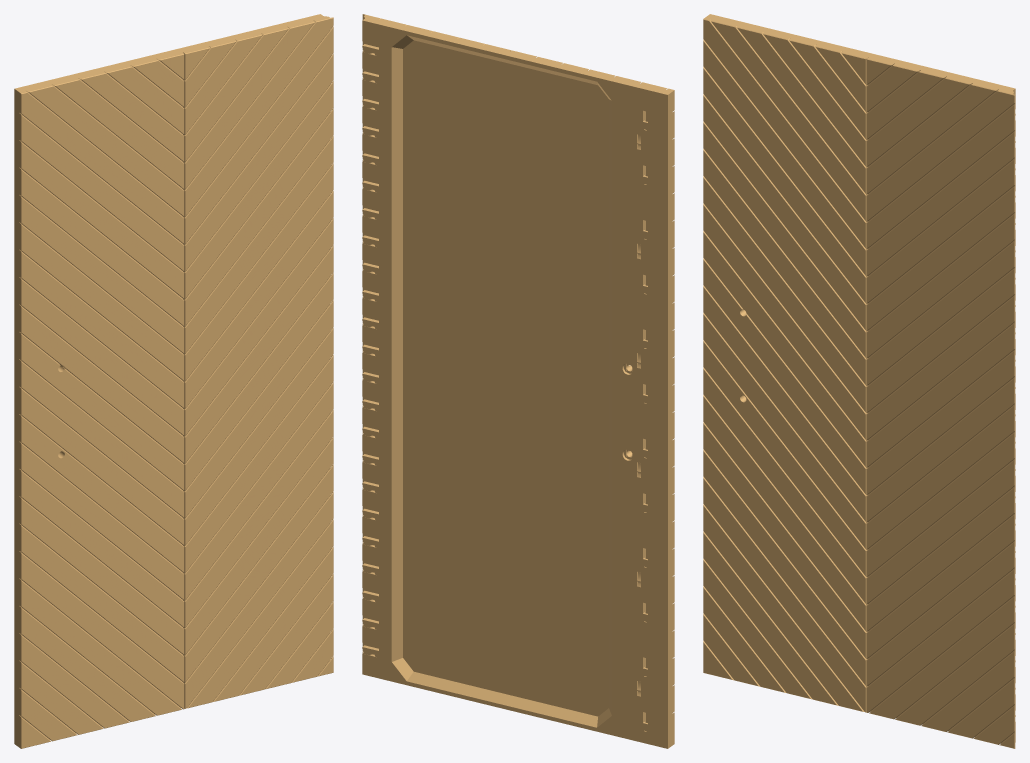
Rendered from Door_Chevron_2W-6H_RH.lib.glb.
The picture shows the model from 3 angles, left to right: view 1: azimuth 30°, elevation 25°; view 2: azimuth 150°, elevation 25°; view 3: azimuth 330°, elevation 25°; orthographic projection.
Visible parts, largest first — view 1: Door_Chevron_2W-6H_RH; view 2: Door_Chevron_2W-6H_RH; view 3: Door_Chevron_2W-6H_RH.
Boxes of the visible parts, x1,y1,x2,y2 form: Door_Chevron_2W-6H_RH: (14,14,333,748); Door_Chevron_2W-6H_RH: (362,14,674,748); Door_Chevron_2W-6H_RH: (703,14,1015,748).
Size of the model in its own units: 167 by 335 by 6.5.
